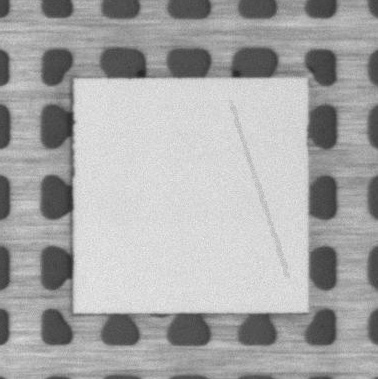DIE_CRACK: (230, 102, 287, 278)
